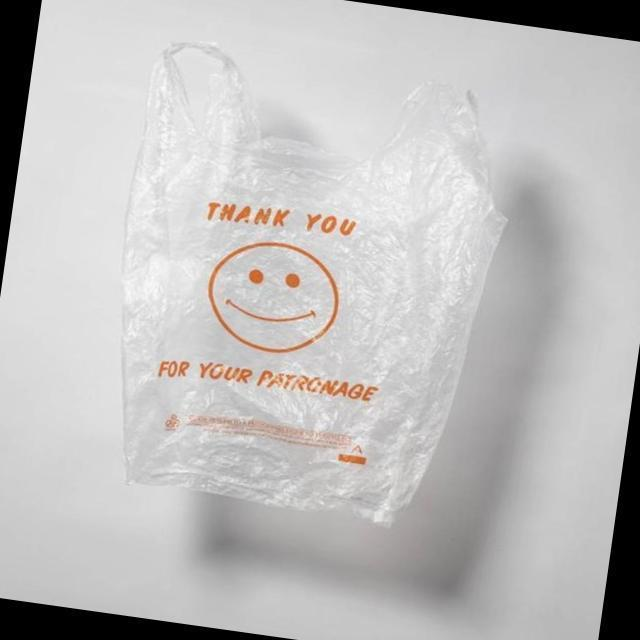KantongPlastik: (118, 40, 509, 527)
